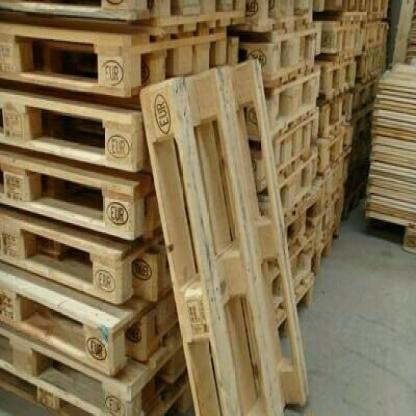BoxFace: (137, 60, 312, 416), (0, 23, 230, 95), (0, 209, 162, 299), (2, 91, 146, 174), (239, 28, 316, 85)
